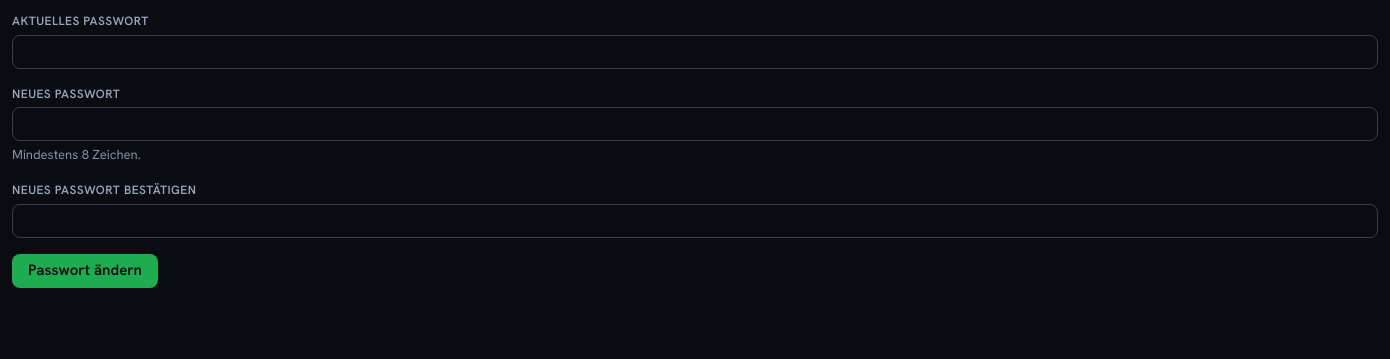
Test: ChangePasswordForm › surfaces a form-level error as an alert
Click the button "Passwort ändern" at (85, 271), box [12,254,158,288]
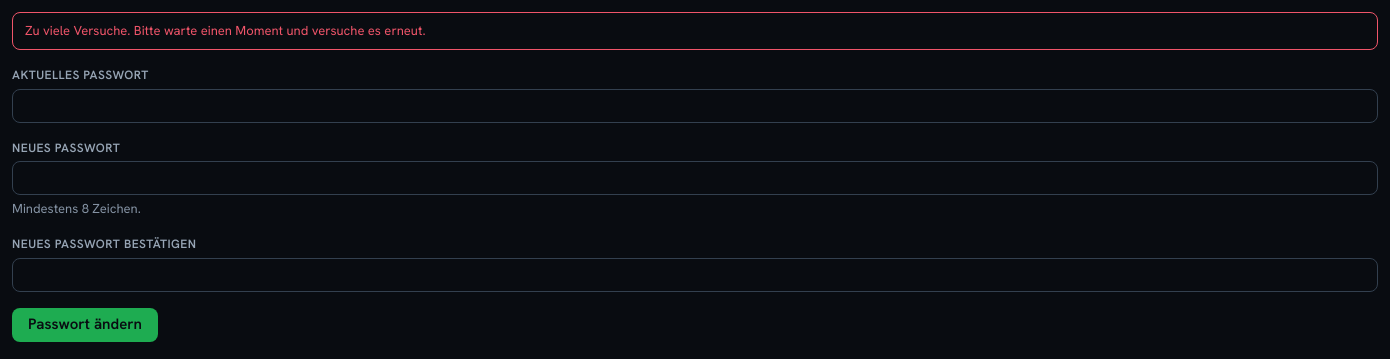
Expected: the message reads "Zu viele Versuche. Bitte warte einen Moment und versuche es erneut.", [25,22,426,39]
